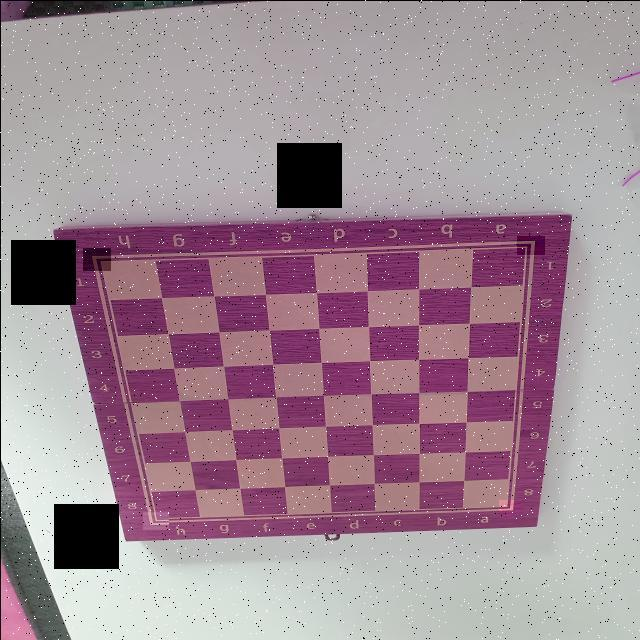chess-table-corners: (82, 247, 110, 270), (516, 235, 544, 254), (142, 511, 168, 528), (498, 499, 522, 516)
